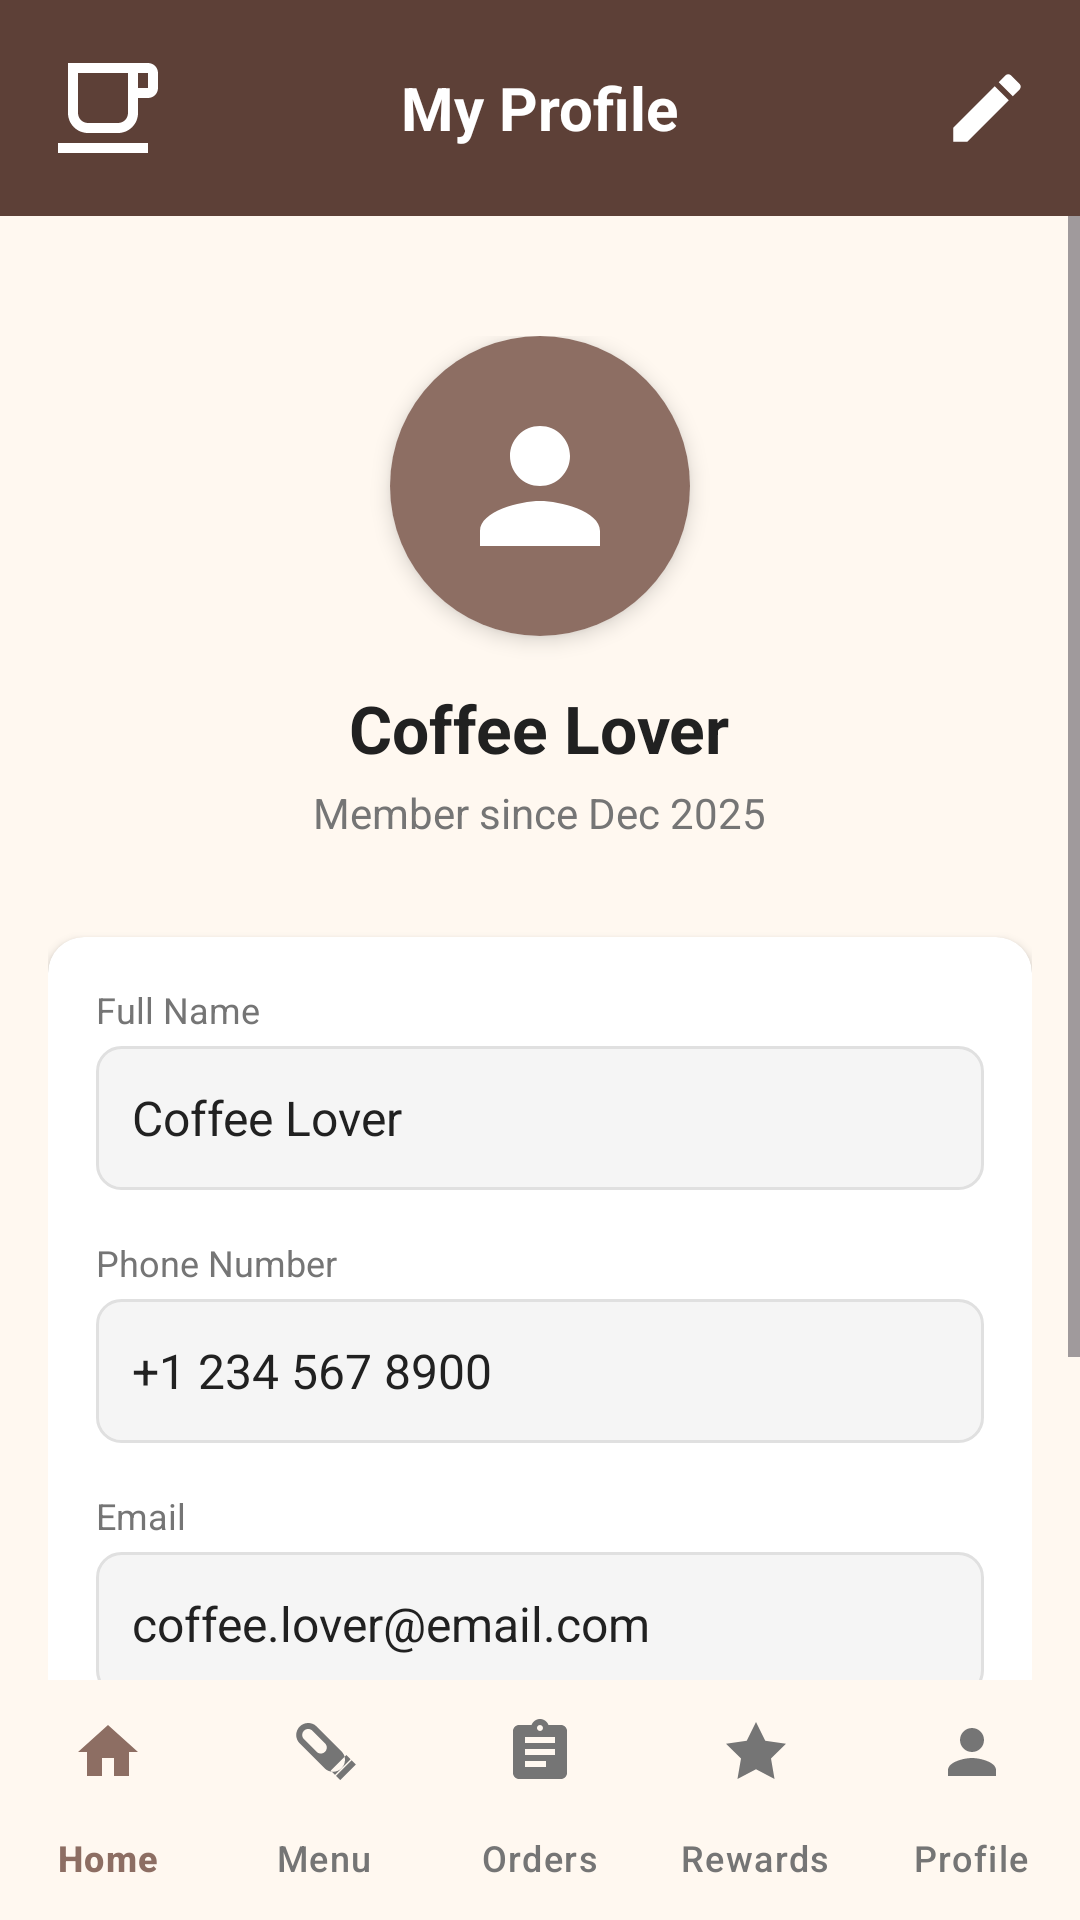

Icon bounding boxes for this 1080×1920 phone screenshot, format {"x1": x1, "y1": y1, "x2": x2, "y2": y2}:
Avatar: {"x1": 390, "y1": 336, "x2": 690, "y2": 636}
Edit: {"x1": 953, "y1": 74, "x2": 1021, "y2": 142}
